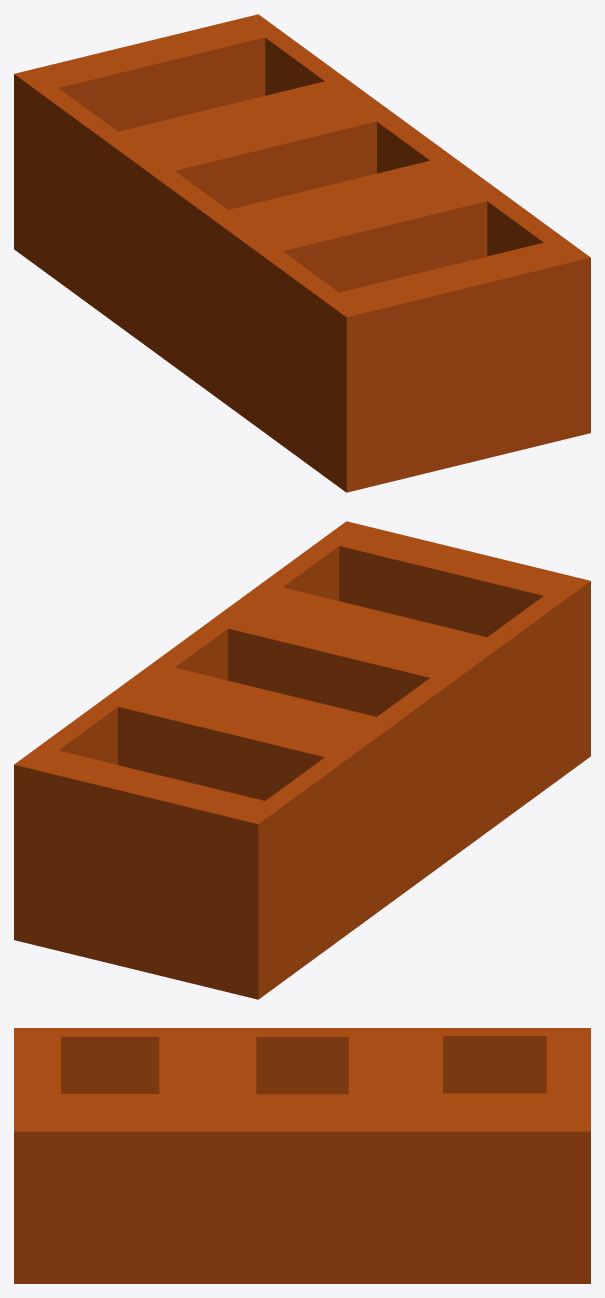
Rendered from projectile2.glb.
3 renders of one model, top to bottom at view 1: azimuth 30°, elevation 25°; view 2: azimuth 150°, elevation 25°; view 3: azimuth 270°, elevation 25°, orthographic. The views are drawn at different scales.
Visible parts, largest first — view 1: Cube; view 2: Cube; view 3: Cube.
Boxes of the visible parts, x1,y1,x2,y2 form: Cube: (14, 14, 590, 492); Cube: (14, 521, 590, 999); Cube: (14, 1028, 590, 1283).
Bounding box in the file's own units: 2 × 1.37 × 4.71.
